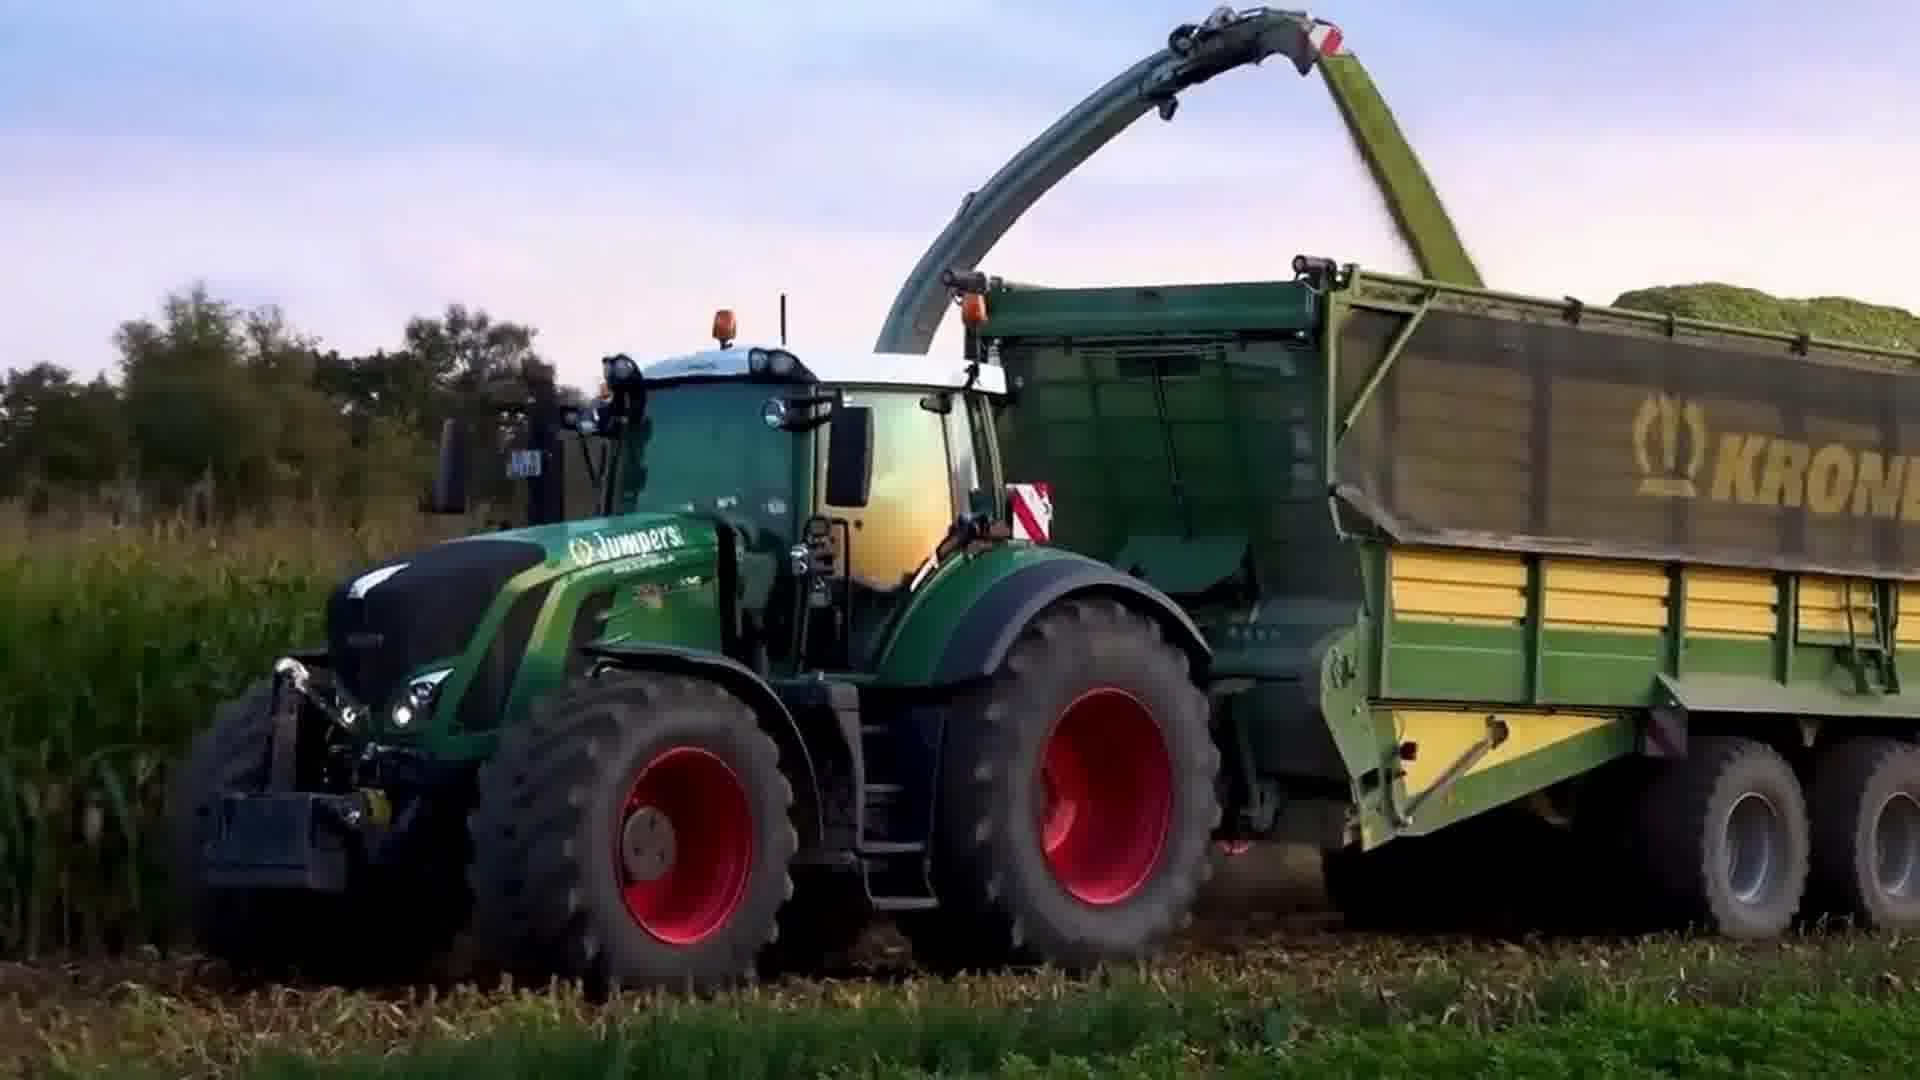tractor: (149, 291, 1242, 1000)
trailer: (930, 252, 1920, 981)
